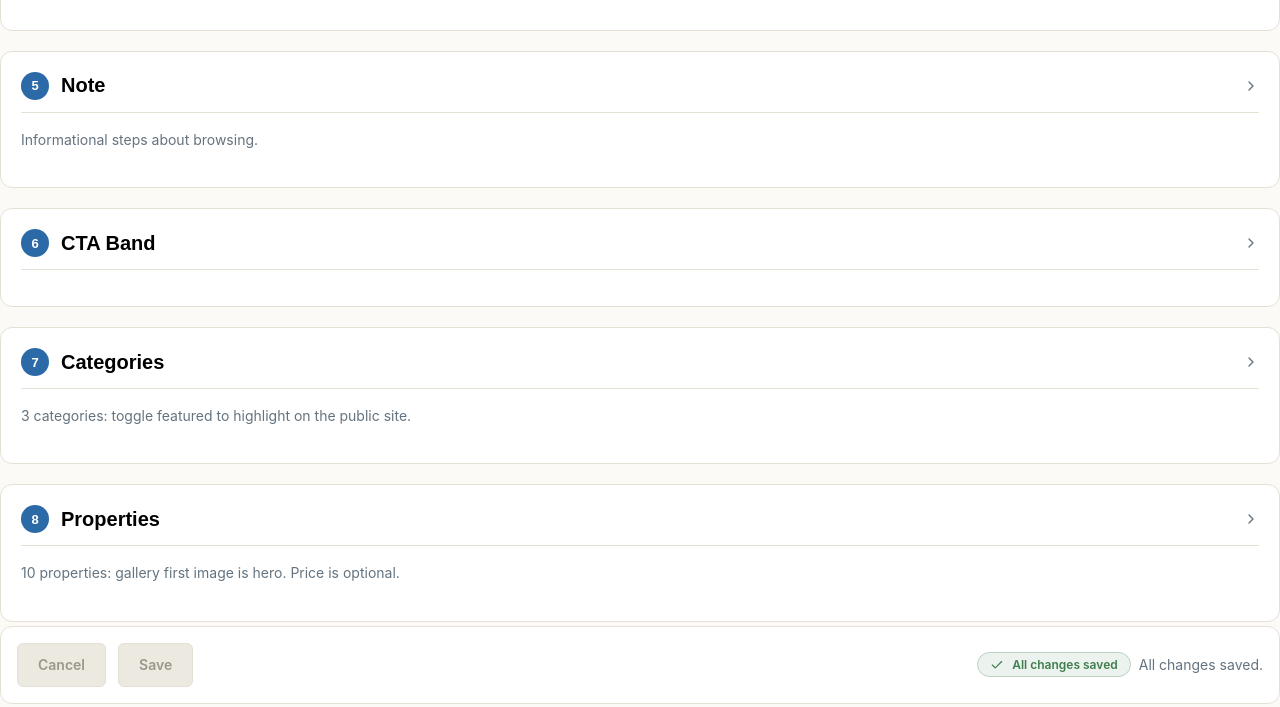
CmsPropertiesPage — Phase 3 Properties CMS › anchor nav and collapsible sections work
(page scrolled)
Click the button "8 Properties".
click(110, 519)  # box left=21, top=506, right=1259, bottom=546
(page scrolled)
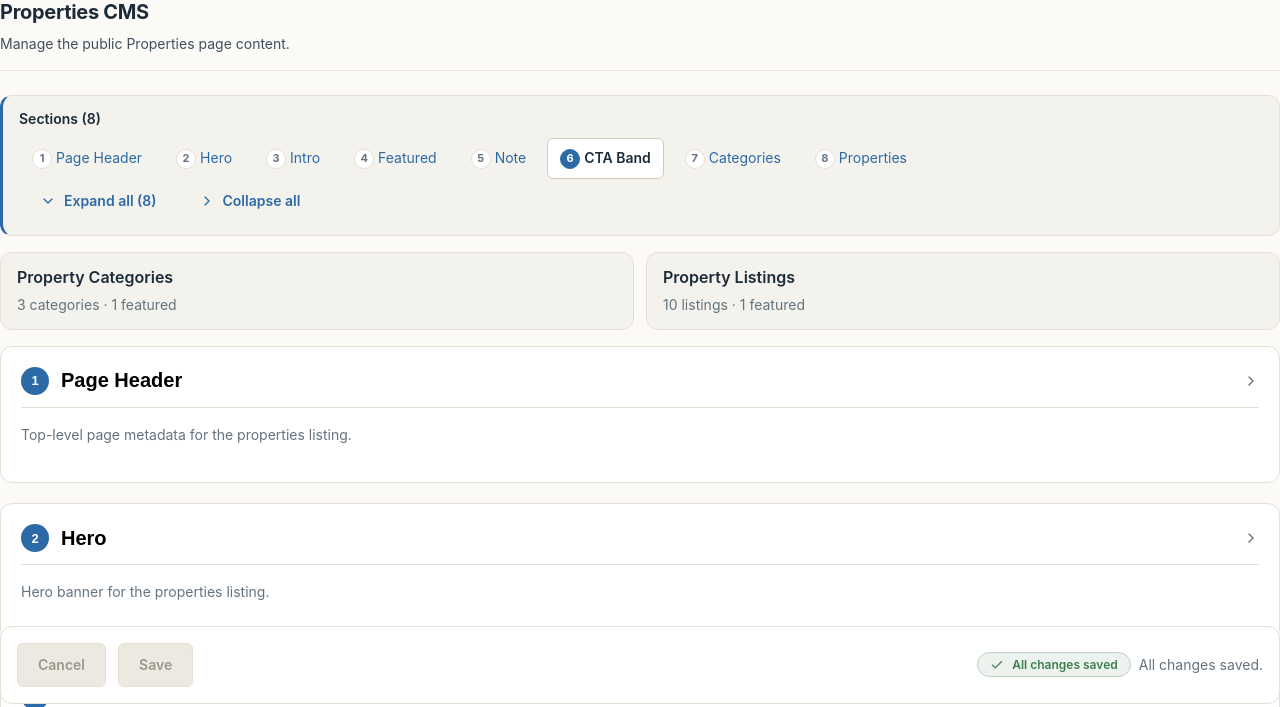
Click the button "Collapse all".
click(249, 201)  # box left=178, top=179, right=321, bottom=223
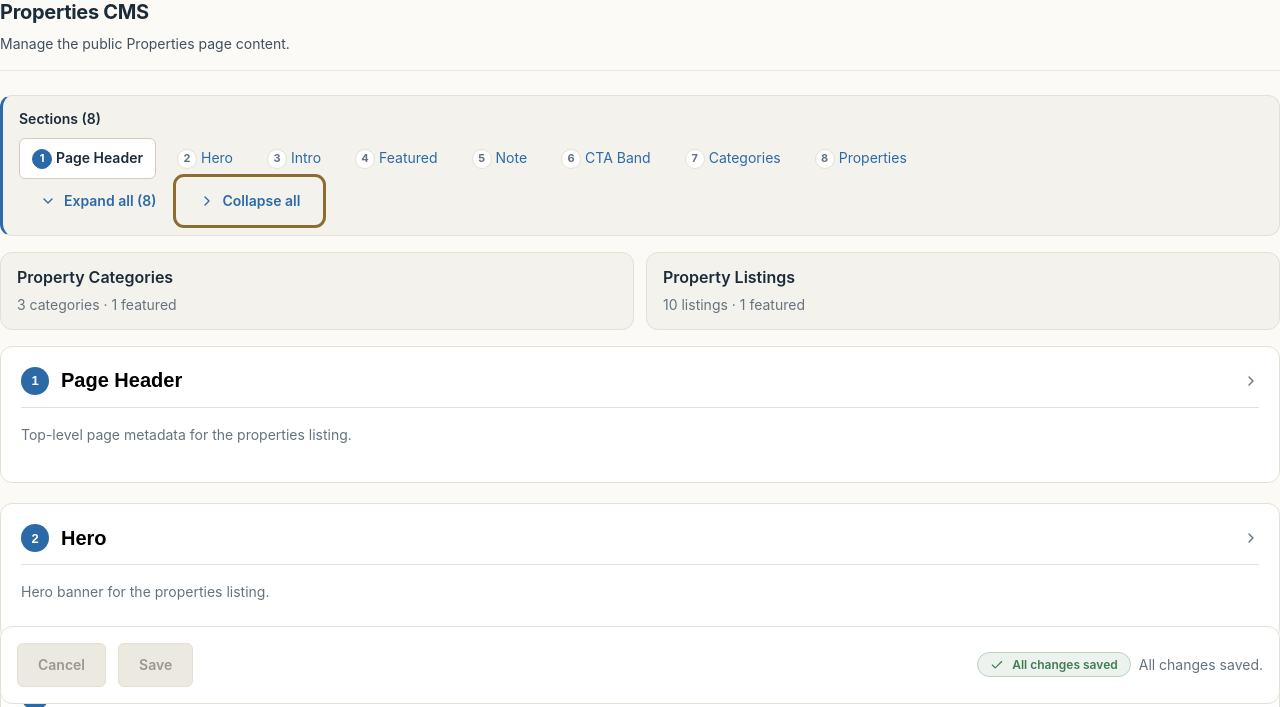
Expected: the field showing "Properties & Listings" is not shown
Click the button "Expand all (8)".
click(98, 201)  # box left=19, top=179, right=178, bottom=223
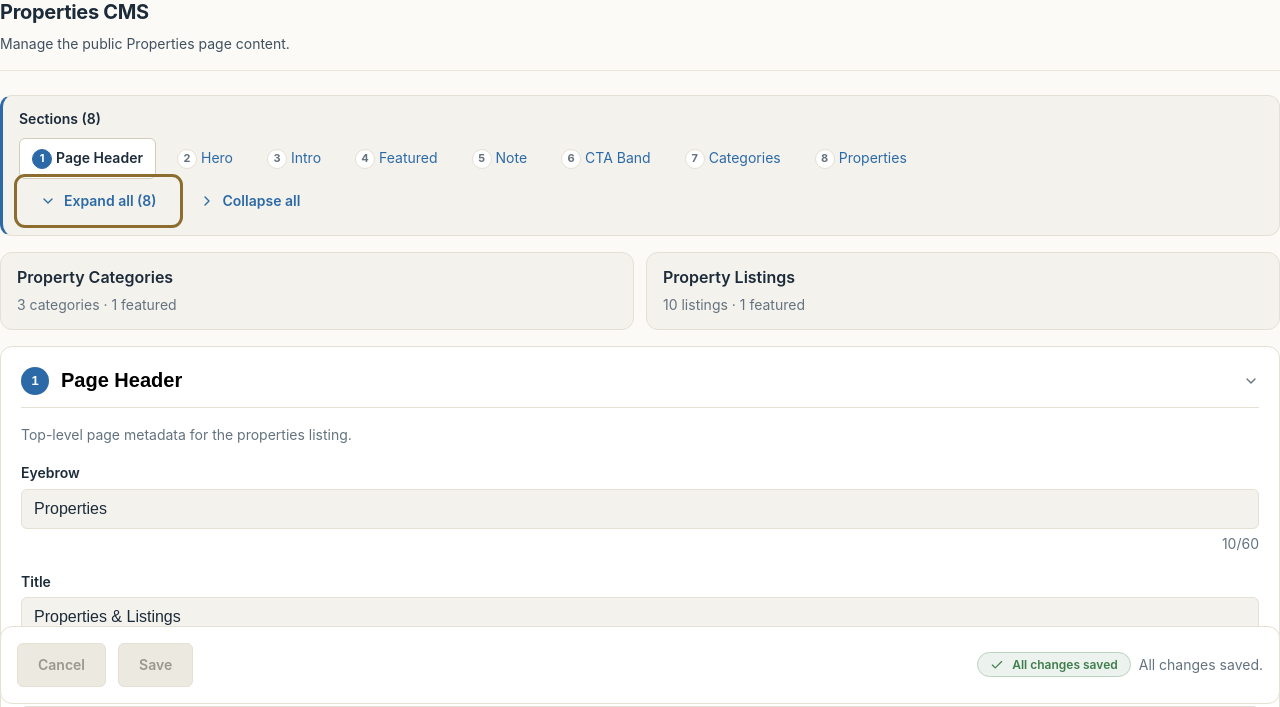
Expected: the field showing "Properties & Listings" is shown, left=21, top=597, right=1259, bottom=637
